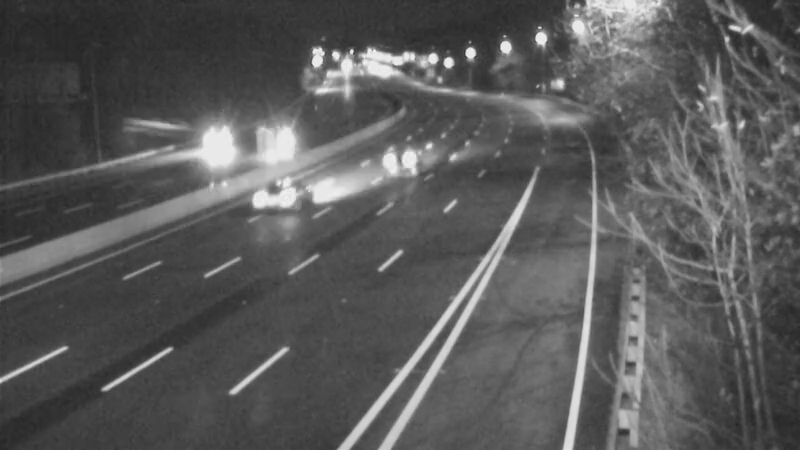vehicle: (357, 126, 437, 206), (230, 156, 310, 236), (177, 112, 257, 192), (255, 123, 305, 173)
